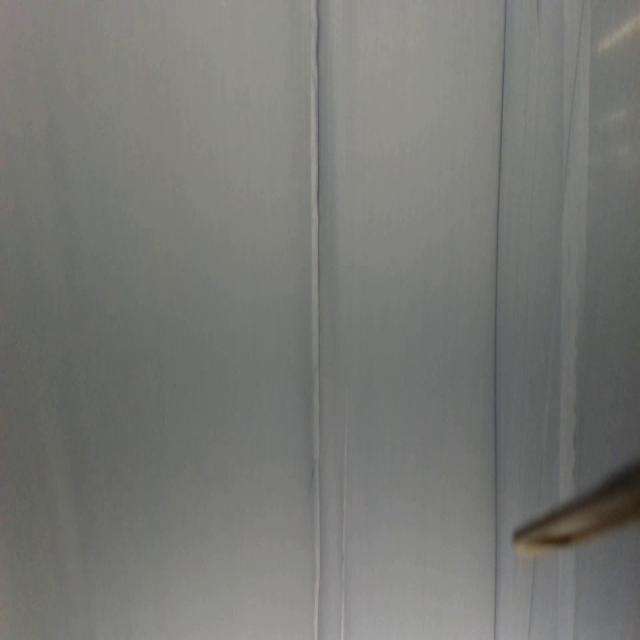crease: (488, 0, 508, 637), (309, 0, 324, 640), (554, 0, 587, 202), (339, 388, 350, 636)
